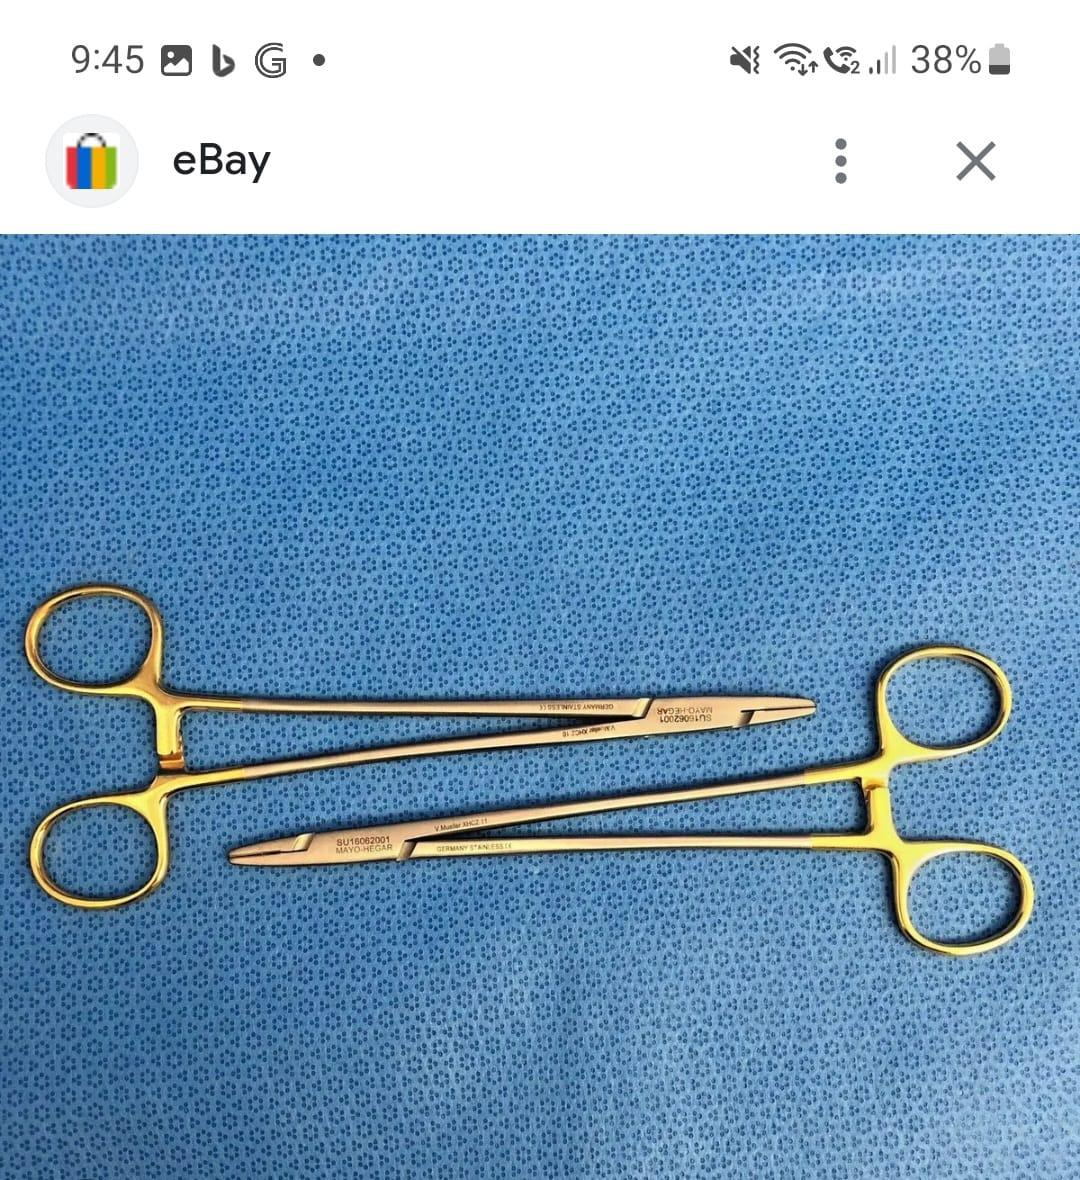Needle Holder: (225, 638, 1032, 983), (13, 577, 822, 913)
